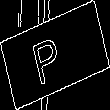P_N: (37, 26, 73, 84)
